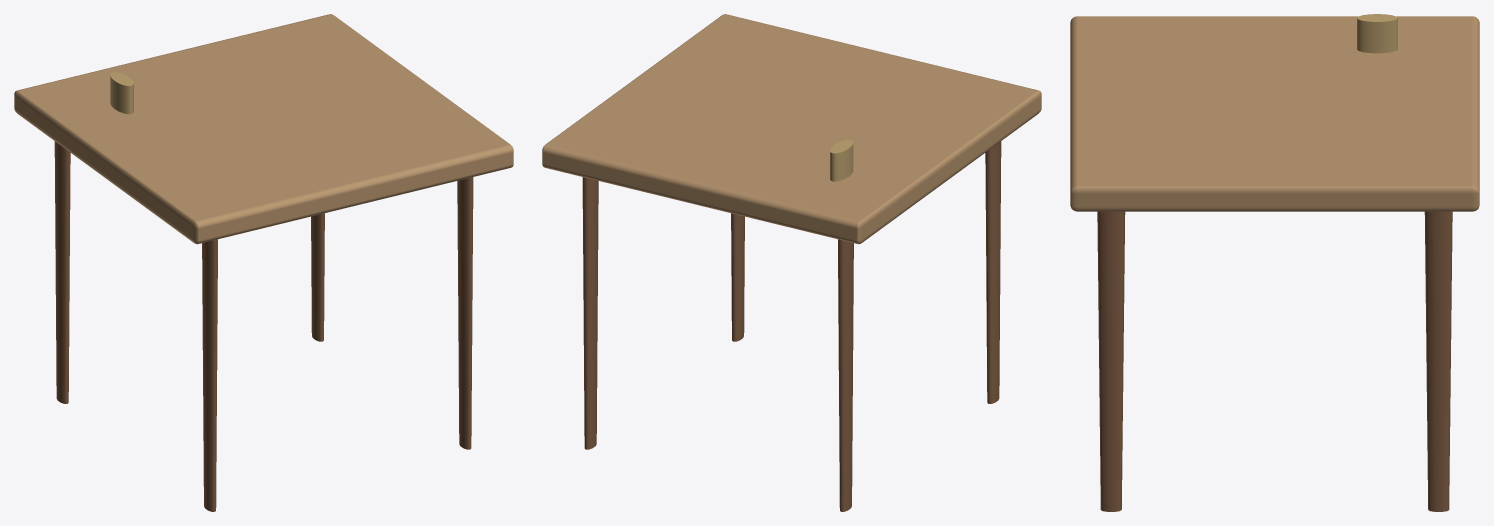
Rendered from desk-5-0.glb.
3 renders of one model, left to right at view 1: azimuth 30°, elevation 25°; view 2: azimuth 150°, elevation 25°; view 3: azimuth 270°, elevation 25°, orthographic. The views are drawn at different scales.
Parts seen in each view (by area): view 1: upholstery, part (×2); view 2: upholstery, part (×2); view 3: upholstery, part (×2).
Boxes of the visible parts, <box> form: upholstery: <box>14,14,513,244</box>; part (×2): <box>54,72,473,511</box>; upholstery: <box>542,14,1041,244</box>; part (×2): <box>582,139,1001,511</box>; upholstery: <box>1070,16,1479,211</box>; part (×2): <box>1097,14,1452,511</box>.
Size of the model in its own units: 1 by 1 by 1.
